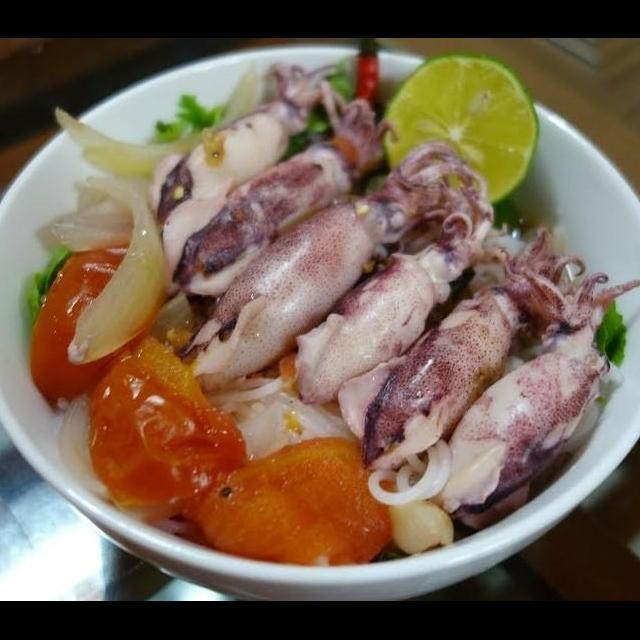bun: (192, 372, 360, 466), (360, 434, 458, 512)
muc: (173, 136, 497, 400), (332, 217, 640, 474), (286, 165, 528, 412), (166, 80, 402, 304), (148, 54, 358, 288), (428, 296, 628, 524)
